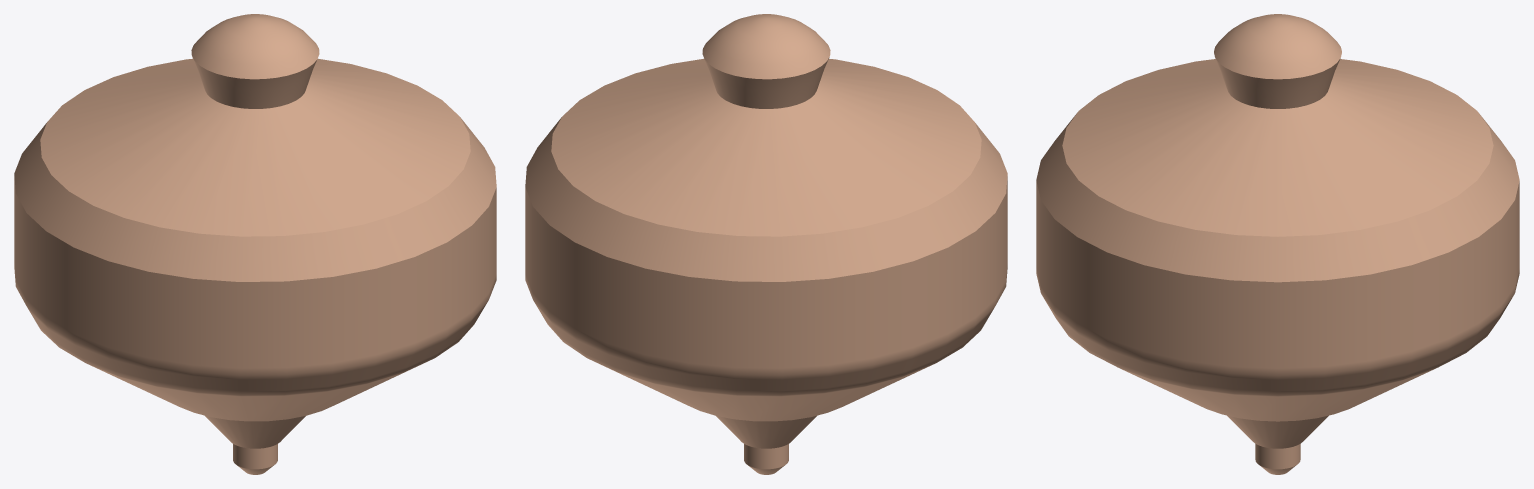
Rendered from gasing.fbx.
The picture shows the model from 3 angles, left to right: view 1: azimuth 30°, elevation 25°; view 2: azimuth 150°, elevation 25°; view 3: azimuth 270°, elevation 25°; orthographic projection.
Parts seen in each view (by area): view 1: gasing; view 2: gasing; view 3: gasing.
Part boxes in pixels (x1,y1,x2,y2): gasing: (14,14,496,474); gasing: (525,14,1007,474); gasing: (1036,14,1519,474).
Size of the model in its own units: 678 by 703 by 678.
